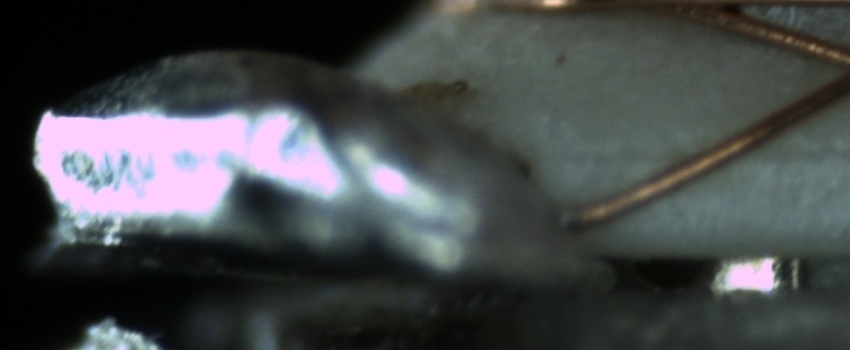CL: (805, 34, 850, 107)
DL: (560, 119, 849, 184)
